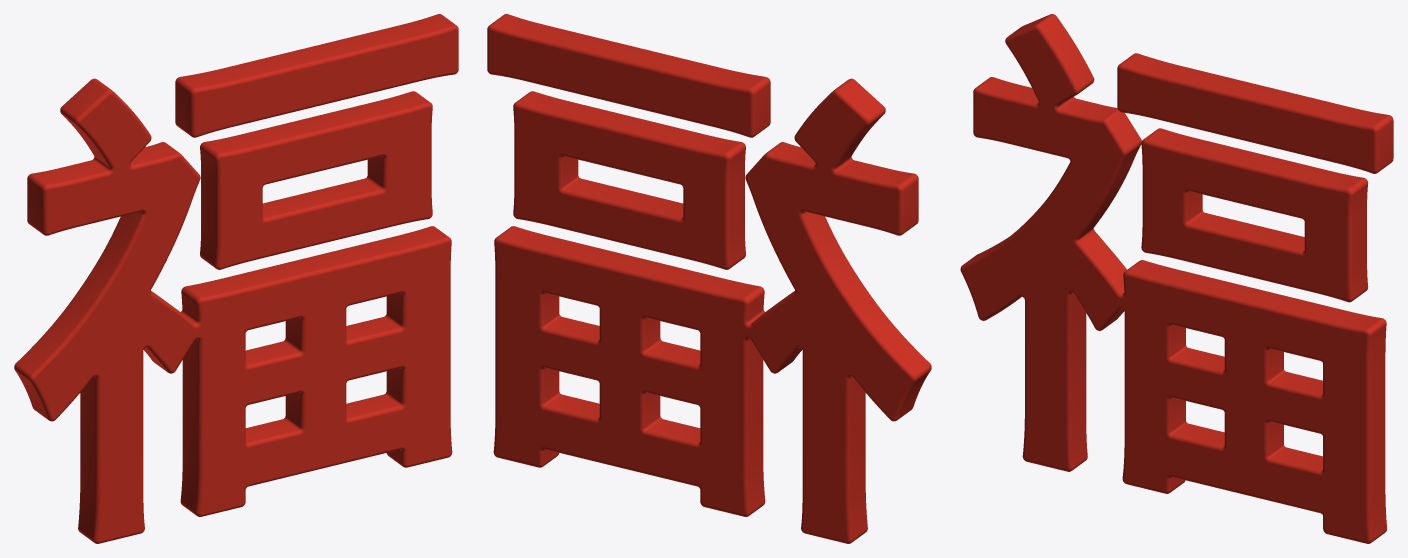
File: fu-hiragino.glb
3 renders of one model, left to right at view 1: azimuth 30°, elevation 25°; view 2: azimuth 150°, elevation 25°; view 3: azimuth 330°, elevation 25°, orthographic. The views are drawn at different scales.
Visible parts, largest first — view 1: geometry_0; view 2: geometry_0; view 3: geometry_0.
Boxes of the visible parts, left/top/right/bottom form: geometry_0: left=14, top=14, right=458, bottom=543; geometry_0: left=487, top=14, right=931, bottom=543; geometry_0: left=960, top=14, right=1393, bottom=543.
Size of the model in its own units: 0.9304 by 0.9349 by 0.07.
